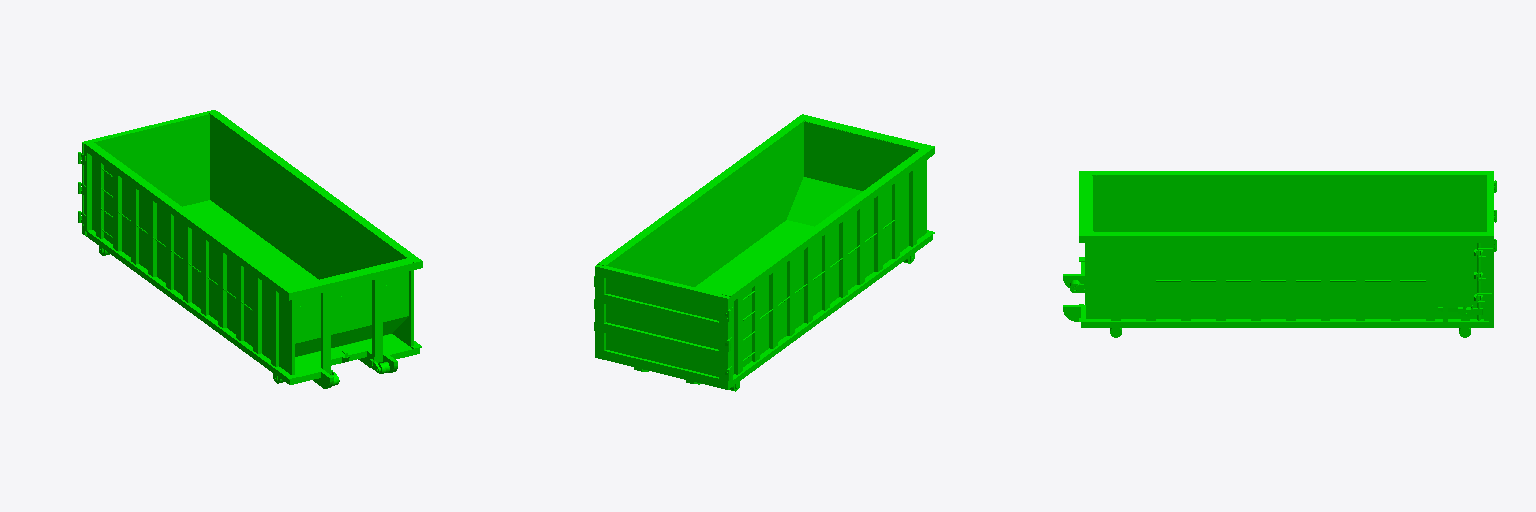
Rendered from 30YardRecDumpsterGreen.obj.
3 views of the same model, side by side, from view 1: azimuth 30°, elevation 25°; view 2: azimuth 150°, elevation 25°; view 3: azimuth 270°, elevation 25° (orthographic).
Parts seen in each view (by area): view 1: Object.2; view 2: Object.2; view 3: Object.2.
Part boxes in pixels (x1,y1,x2,y2): Object.2: (78, 110, 422, 388); Object.2: (594, 114, 934, 391); Object.2: (1063, 171, 1496, 337).
Bounding box in the file's own units: 45.32 × 32.29 × 121.